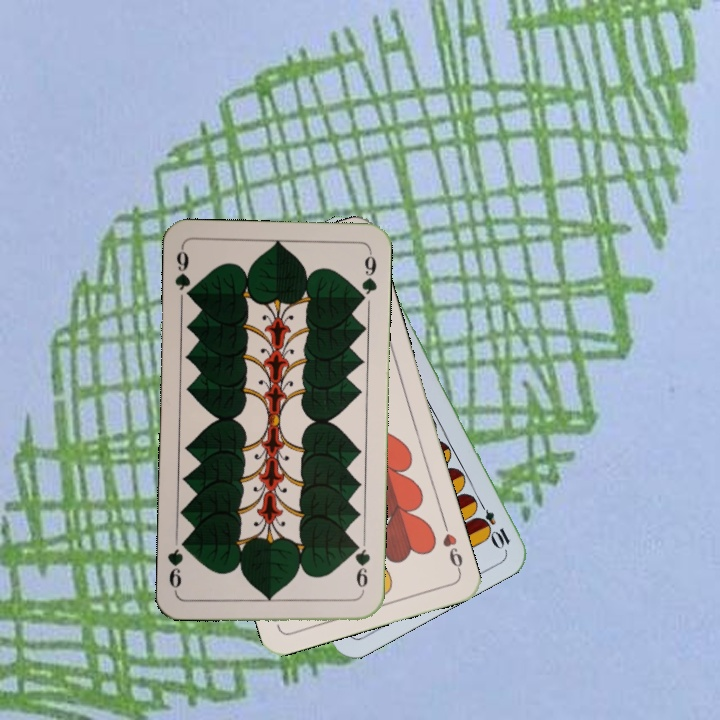E10: (472, 496, 513, 551)
G9: (170, 244, 196, 303), (350, 538, 373, 597)
H9: (438, 518, 466, 576)
